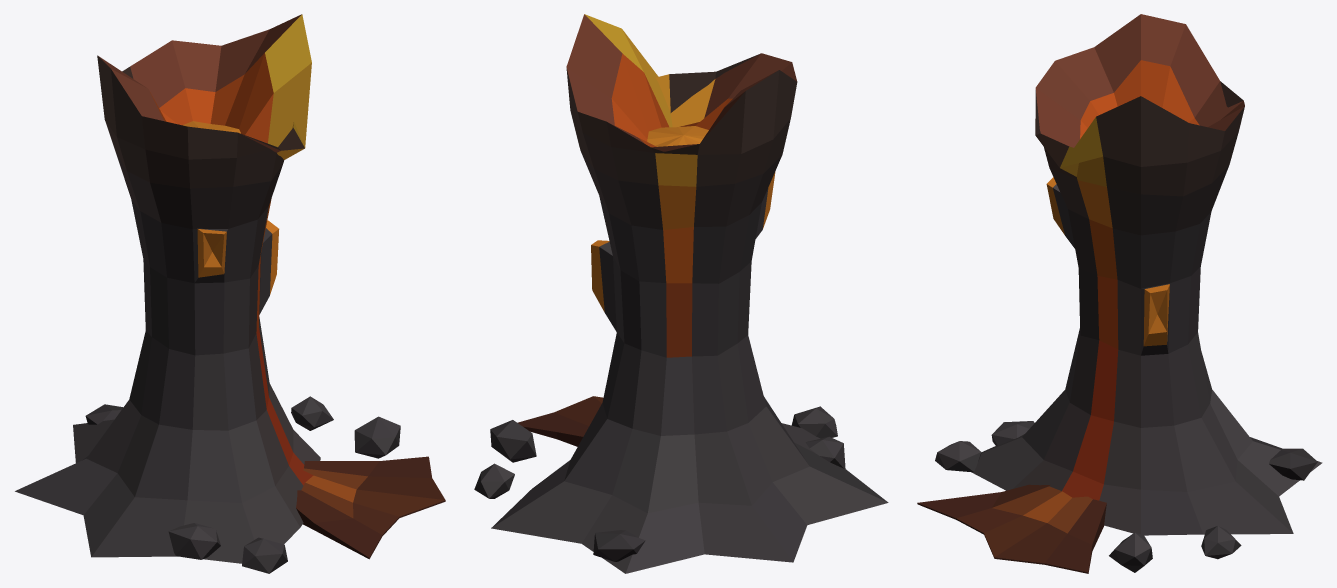
The model's file is Volcanic_Tree.glb.
3 renders of one model, left to right at view 1: azimuth 30°, elevation 25°; view 2: azimuth 150°, elevation 25°; view 3: azimuth 270°, elevation 25°, orthographic. The views are drawn at different scales.
Parts seen in each view (by area): view 1: Volcanic_Tree; view 2: Volcanic_Tree; view 3: Volcanic_Tree.
Part boxes in pixels (x1,y1,x2,y2): Volcanic_Tree: [15, 14, 445, 573]; Volcanic_Tree: [474, 14, 888, 573]; Volcanic_Tree: [917, 14, 1322, 573].
Size of the model in its own units: 6.28 by 7.79 by 6.47.
